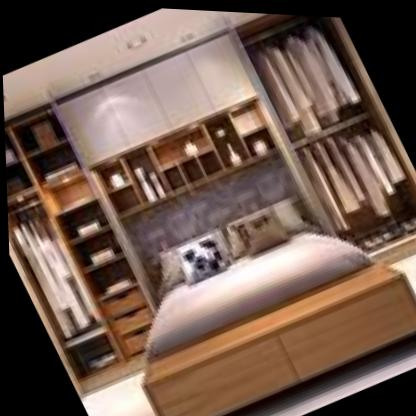Bed: (139, 197, 416, 416)
